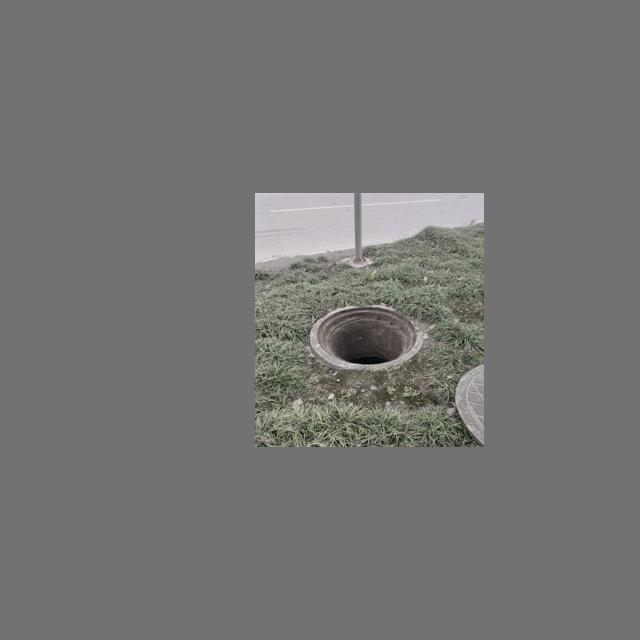lose: (305, 297, 433, 365)
